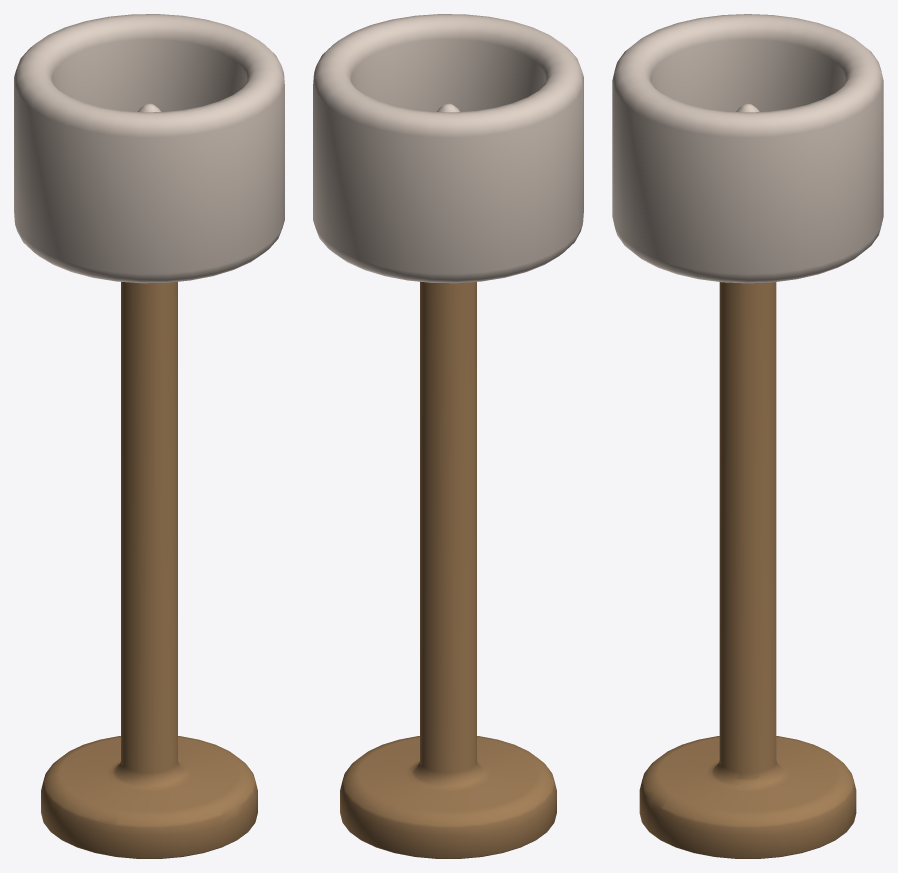
File: floorlamp.fbx
3 views of the same model, side by side, from view 1: azimuth 30°, elevation 25°; view 2: azimuth 150°, elevation 25°; view 3: azimuth 270°, elevation 25° (orthographic).
Parts seen in each view (by area): view 1: Floor_Lamp, Floor_Lamp_Base; view 2: Floor_Lamp, Floor_Lamp_Base; view 3: Floor_Lamp, Floor_Lamp_Base.
Part boxes in pixels (x1,y1,x2,y2): Floor_Lamp: (14, 14, 284, 283); Floor_Lamp_Base: (41, 103, 257, 858); Floor_Lamp: (313, 14, 583, 283); Floor_Lamp_Base: (340, 103, 556, 858); Floor_Lamp: (612, 14, 883, 283); Floor_Lamp_Base: (639, 103, 856, 858).
Size of the model in its own units: 100 by 304 by 100.
